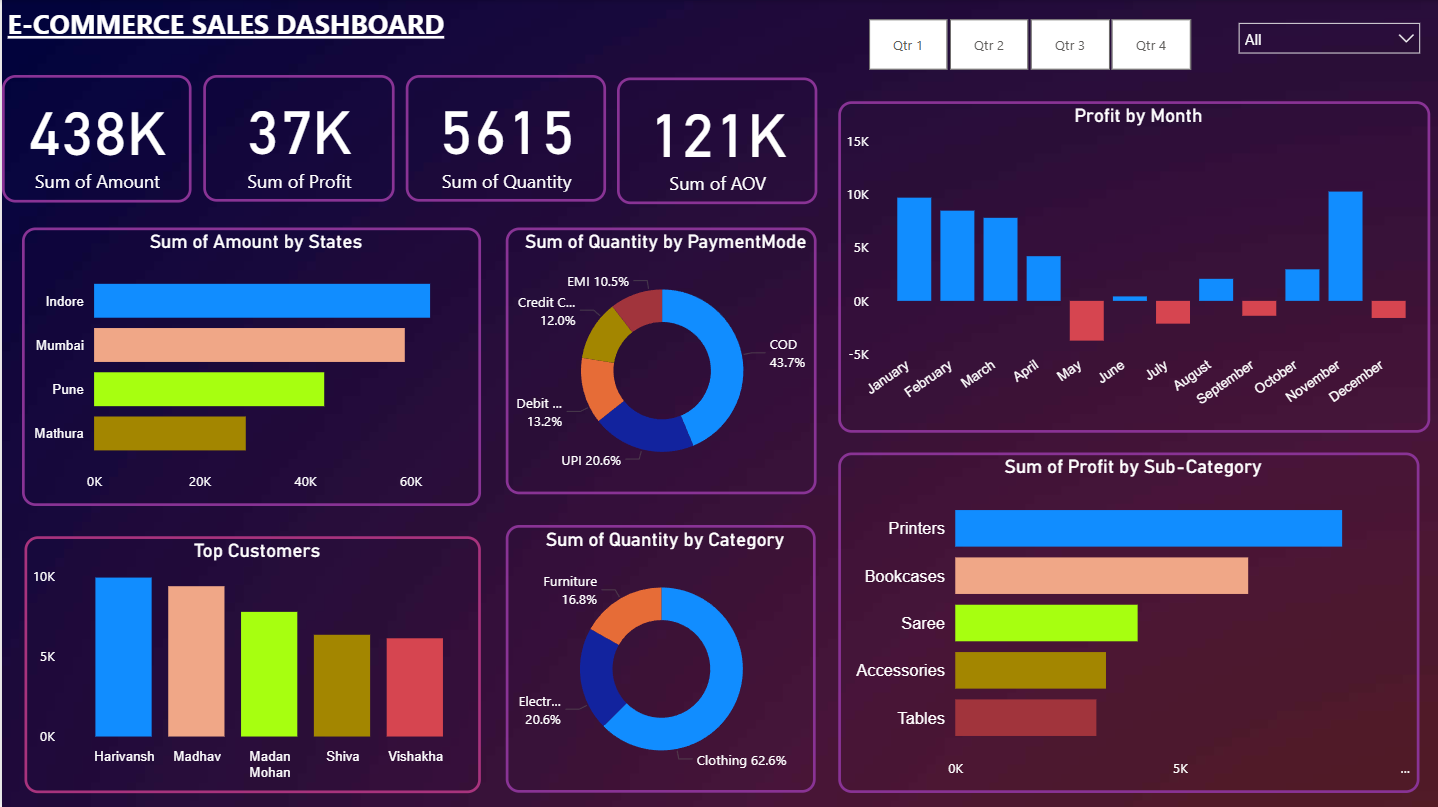

What the dashboard file says about the page in this screenshot:
{"tool":"powerbi","page":{"name":"Page 1","canvas":[1280,720],"ordinal":0},"visuals":[{"type":"textbox","box":[0,0,414.4,49.4],"z":0},{"type":"columnChart","title":"Profit by Month","fields":{"Category":["Orders.Order Date.Variation.Date Hierarchy.Month"],"Y":["Details.Profit","Details.Profit"]},"box":[745.1,90.6,526.9,295],"z":1000},{"type":"barChart","title":"Sum of Profit by Sub-Category","fields":{"Category":["Details.Sub-Category"],"Y":["Details.Profit"]},"box":[745.1,403.4,517.3,303.3],"z":2000},{"type":"donutChart","fields":{"Category":["Details.Category"],"Y":["Details.Quantity"]},"box":[448.7,467.9,275.8,238.8],"z":3000},{"type":"donutChart","fields":{"Y":["Details.Quantity"],"Category":["Details.PaymentMode"]},"box":[448.7,203.1,277.2,237.4],"z":4000},{"type":"card","fields":{"Values":["Details.Amount"]},"box":[0,67.2,168.8,113.9],"z":5000},{"type":"card","fields":{"Values":["Details.Profit"]},"box":[179.8,67.2,170.2,112.5],"z":6000},{"type":"card","fields":{"Values":["Details.Quantity"]},"box":[359.5,67.2,178.4,112.5],"z":7000},{"type":"card","fields":{"Values":["Details.AOV"]},"box":[547.5,68.6,178.4,112.5],"z":8000},{"type":"barChart","title":"Sum of Amount by States","fields":{"Category":["Orders.City"],"Y":["Details.Amount"]},"box":[17.8,203.1,408.9,248.4],"z":9000},{"type":"columnChart","title":"Top Customers","fields":{"Category":["Orders.CustomerName"],"Y":["Details.Amount"]},"box":[20.6,477.5,406.2,229.2],"z":10000},{"type":"slicer","fields":{"Values":["Orders.Order Date.Variation.Date Hierarchy.Quarter"]},"box":[745.6,9.7,336.6,59.1],"z":11000},{"type":"slicer","fields":{"Values":["Orders.State"]},"box":[1090.6,9.7,182.2,57.9],"z":12000}]}

Visuals, with their boxes in screenshot pixels (x1, y1, x2, y2), scaled from the page's 1280x720 canvas onto the 1438x807 screenshot:
textbox: <region>0, 0, 466, 55</region>
"Profit by Month" columnChart: <region>837, 102, 1429, 432</region>
"Sum of Profit by Sub-Category" barChart: <region>837, 452, 1418, 792</region>
donutChart - Details.Category x Details.Quantity: <region>504, 524, 814, 792</region>
donutChart - Details.Quantity x Details.PaymentMode: <region>504, 228, 816, 494</region>
card - Details.Amount: <region>0, 75, 190, 203</region>
card - Details.Profit: <region>202, 75, 393, 201</region>
card - Details.Quantity: <region>404, 75, 604, 201</region>
card - Details.AOV: <region>615, 77, 816, 203</region>
"Sum of Amount by States" barChart: <region>20, 228, 479, 506</region>
"Top Customers" columnChart: <region>23, 535, 479, 792</region>
slicer - Orders.Order Date.Variation.Date Hierarchy.Quarter: <region>838, 11, 1216, 77</region>
slicer - Orders.State: <region>1225, 11, 1430, 76</region>
